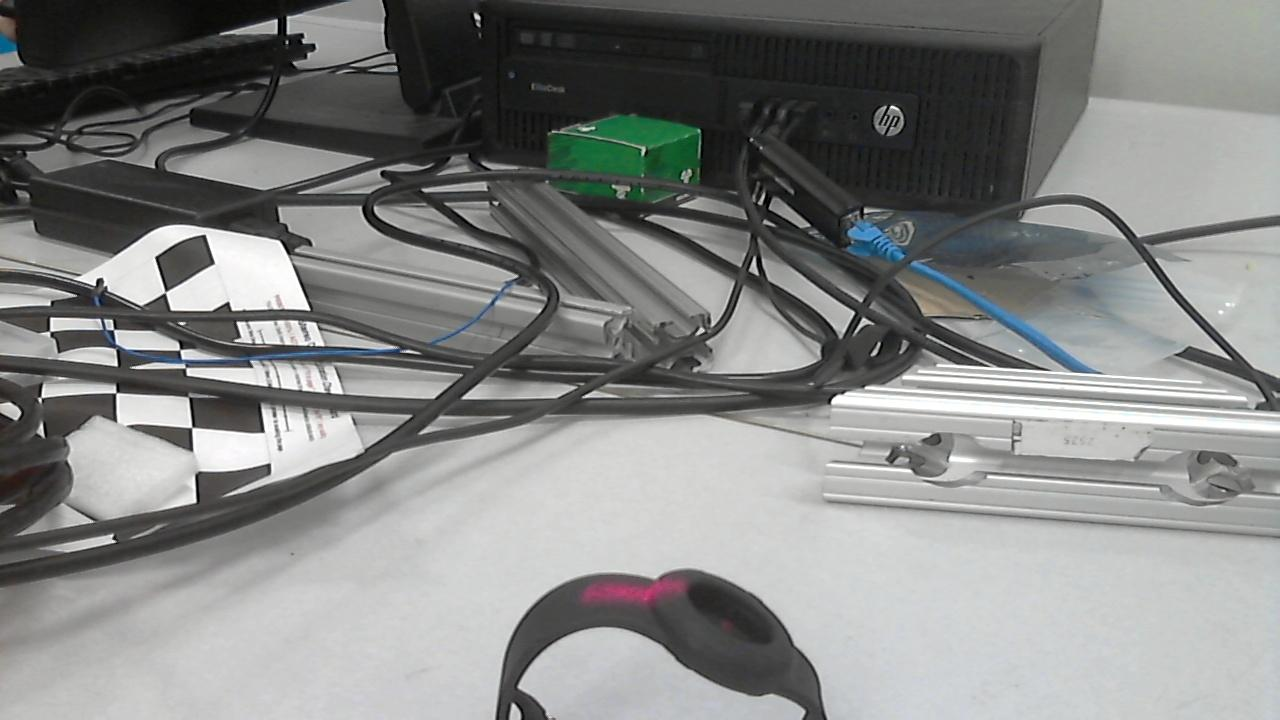Object fitness tracker replacement band - Material silicone - Pdfname fdfasdjhad: (571, 560, 703, 627)
